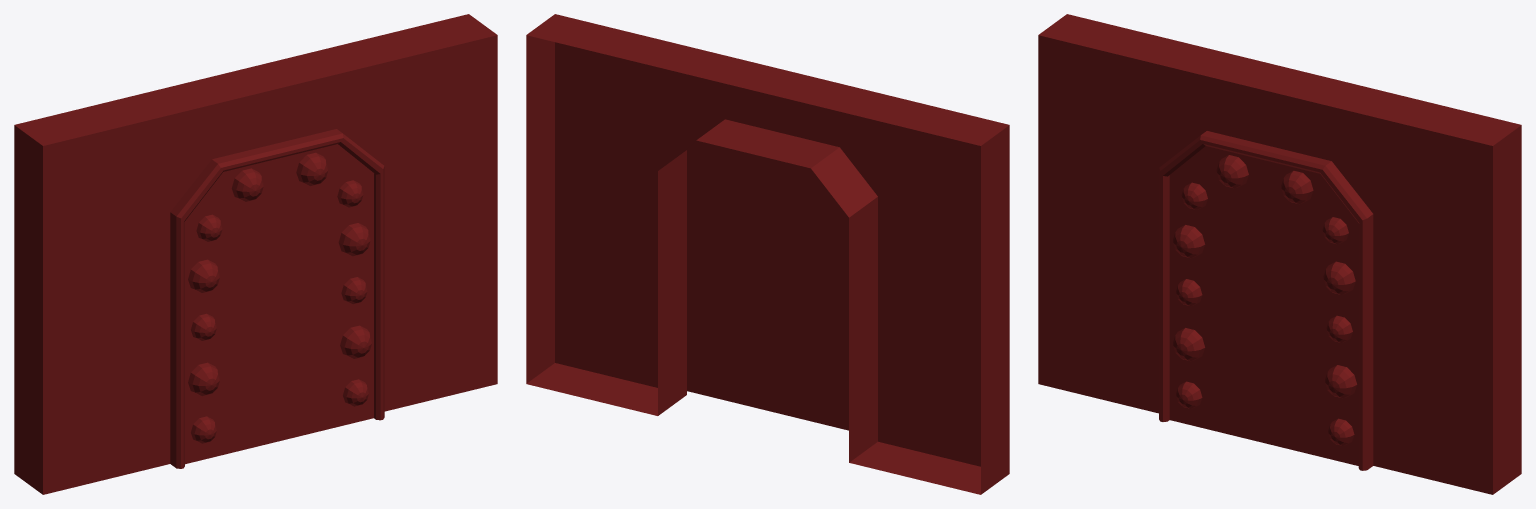
Rendered from Level 2 Door.fbx.
3 renders of one model, left to right at view 1: azimuth 30°, elevation 25°; view 2: azimuth 150°, elevation 25°; view 3: azimuth 330°, elevation 25°, orthographic.
Visible parts, largest first — view 1: pCube4, polySurface7, polySurface6, polySurface3, polySurface4; view 2: polySurface7, polySurface6, pCube4, polySurface3, polySurface4; view 3: pCube4, polySurface6, polySurface7, polySurface4, polySurface3.
Part boxes in pixels (left/top/right/bottom): pCube4: left=170, top=129, right=384, bottom=468; polySurface7: left=14, top=69, right=270, bottom=347; polySurface6: left=242, top=14, right=497, bottom=264; polySurface3: left=14, top=317, right=170, bottom=494; polySurface4: left=384, top=237, right=497, bottom=411; polySurface7: left=754, top=69, right=1009, bottom=347; polySurface6: left=526, top=14, right=782, bottom=268; pCube4: left=687, top=141, right=848, bottom=430; polySurface3: left=849, top=294, right=1009, bottom=494; polySurface4: left=526, top=216, right=686, bottom=415; pCube4: left=1159, top=131, right=1373, bottom=470; polySurface6: left=1265, top=69, right=1521, bottom=347; polySurface7: left=1038, top=14, right=1293, bottom=266; polySurface4: left=1373, top=319, right=1521, bottom=494; polySurface3: left=1038, top=237, right=1158, bottom=413.
Size of the model in its own units: 593 by 435 by 94.14.
